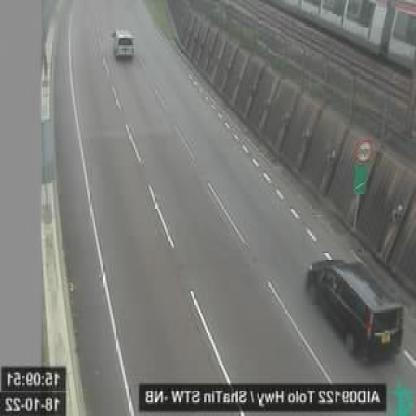Car: (303, 258, 408, 358), (111, 26, 135, 61)
